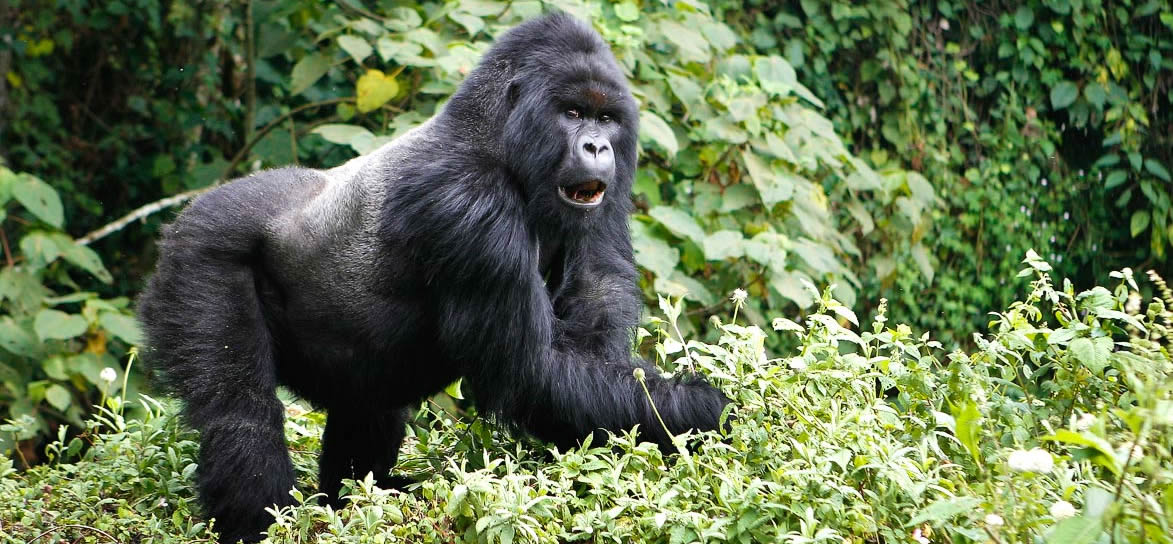Goriila: (106, 7, 755, 539)
